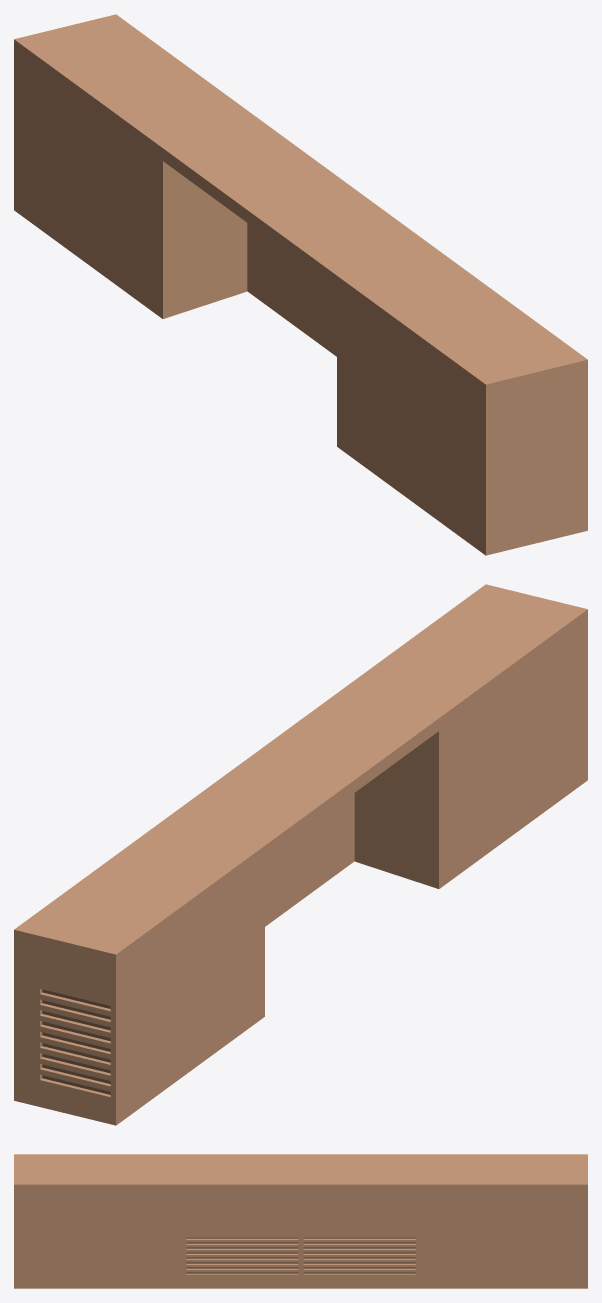
Rendered from ambona_1.fbx.
3 views of the same model, one above another, from view 1: azimuth 30°, elevation 25°; view 2: azimuth 150°, elevation 25°; view 3: azimuth 270°, elevation 25° (orthographic). The views are drawn at different scales.
Parts seen in each view (by area): view 1: Cube; view 2: Cube, Cube.001; view 3: Cube, Cube.001.
Boxes of the visible parts, x1,y1,x2,y2 form: Cube: (14,14,587,555); Cube: (14,584,587,1125); Cube.001: (42,989,110,1094); Cube: (14,1154,587,1288); Cube.001: (186,1237,415,1273).
Bounding box in the file's own units: 250 × 400 × 2000.
